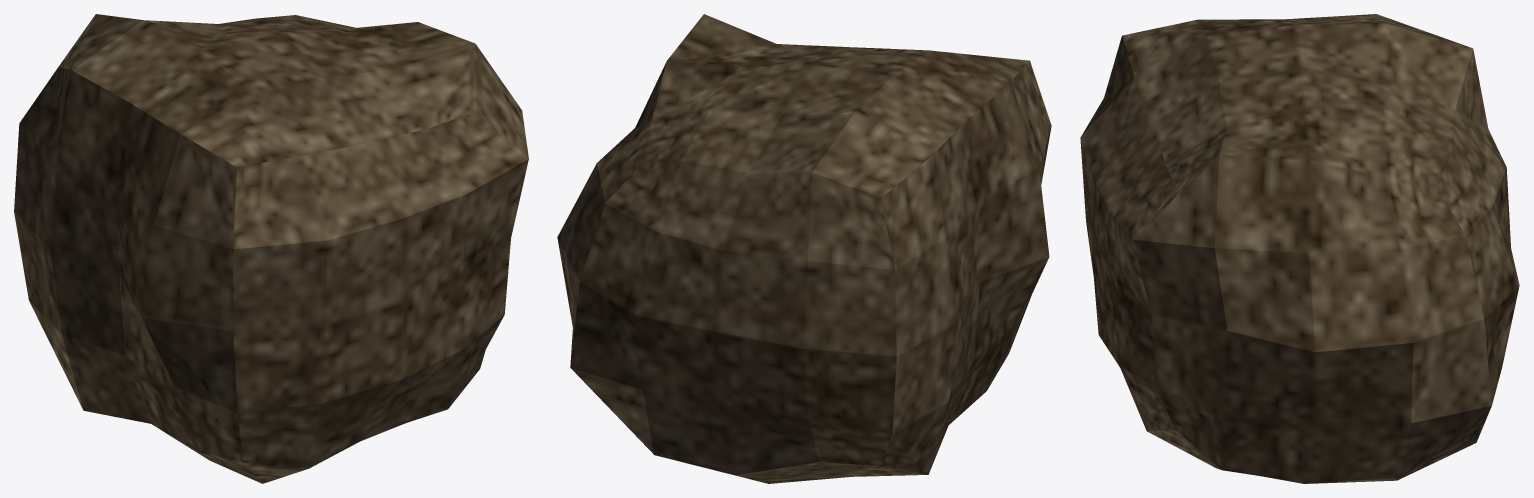
Rendered from SM_EC_Rock_24.fbx.
3 renders of one model, left to right at view 1: azimuth 30°, elevation 25°; view 2: azimuth 150°, elevation 25°; view 3: azimuth 270°, elevation 25°, orthographic. The views are drawn at different scales.
Visible parts, largest first — view 1: SM_EC_Rock_24; view 2: SM_EC_Rock_24; view 3: SM_EC_Rock_24.
Boxes of the visible parts, <box> form: SM_EC_Rock_24: <box>14,14,528,483</box>; SM_EC_Rock_24: <box>557,14,1051,483</box>; SM_EC_Rock_24: <box>1080,14,1519,483</box>.
Bounding box in the file's own units: 0.7684 × 0.7234 × 0.7211.
